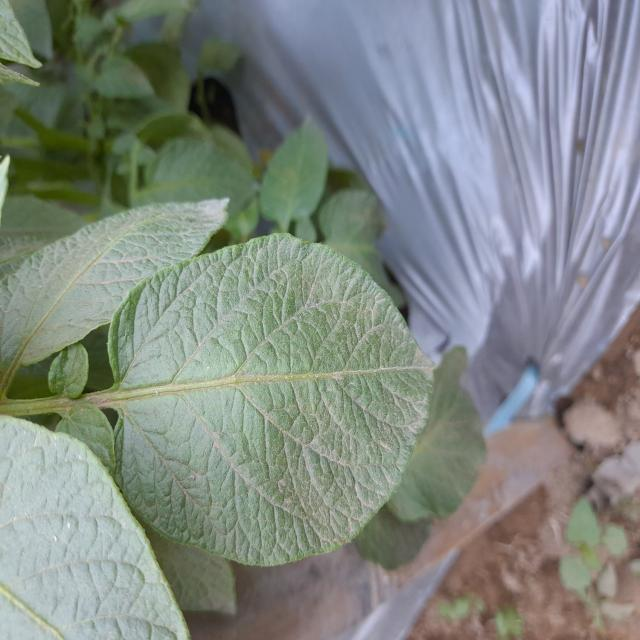healthy: (102, 230, 438, 570)
